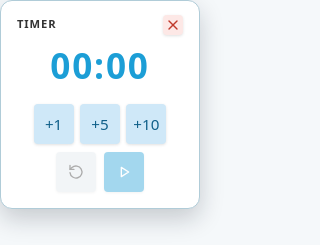
Test: FateTimer › shows reset and continue buttons when paused
This screenshot has width=320, height=245.
Click the button "+1" at (54, 124), box [34, 104, 74, 144]
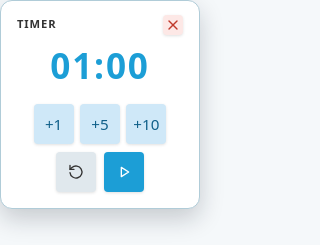
Click the button named "Timer starten" at (124, 172), box [104, 152, 144, 192]
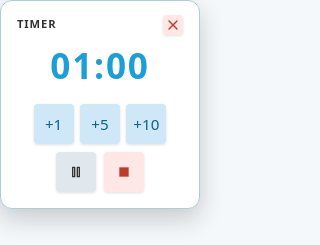
Click the button named "Timer pausieren" at (76, 172), box [56, 152, 96, 192]
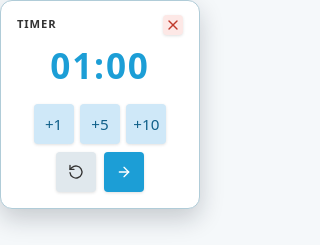
Expected: the button named "Timer zurücksetzen" is shown, [56, 152, 96, 192]
Expected: the button named "Timer fortsetzen" is shown, [104, 152, 144, 192]
